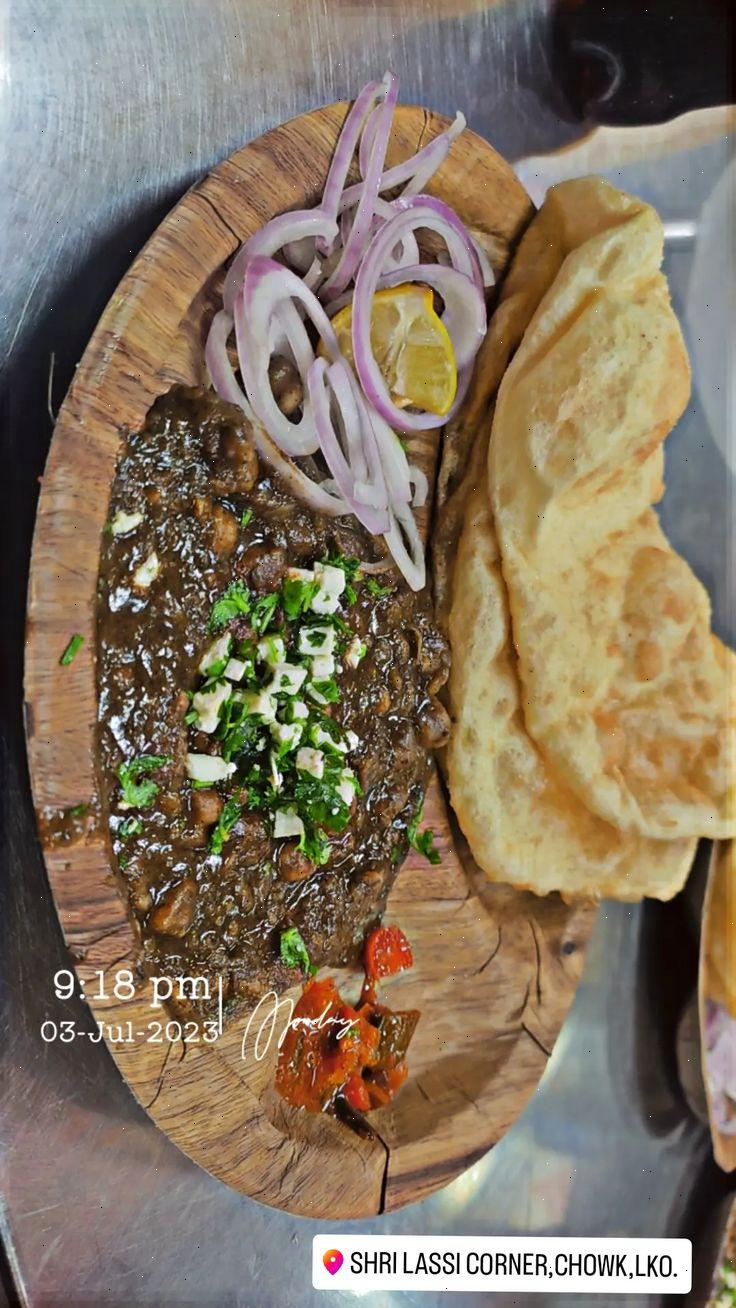chole: (107, 428, 421, 985)
salad: (223, 141, 494, 512)
